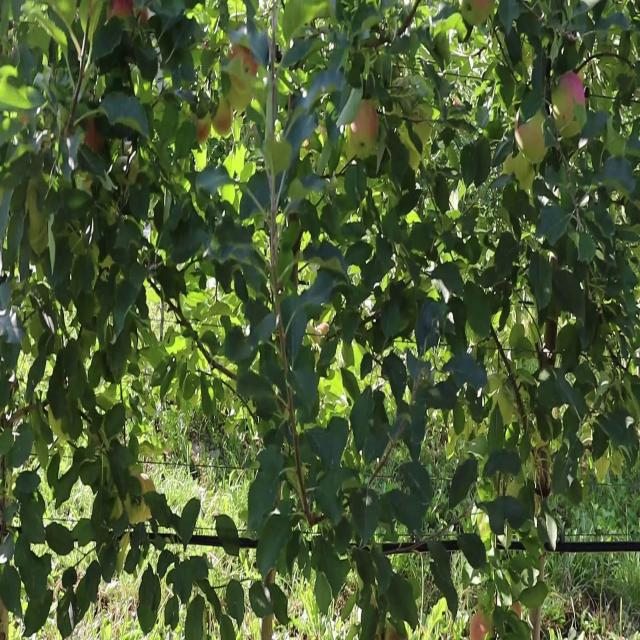apple: (552, 71, 588, 140), (516, 106, 549, 165), (348, 99, 380, 156), (228, 42, 260, 80), (512, 156, 538, 192), (272, 135, 293, 176), (212, 99, 233, 137), (84, 120, 106, 155), (468, 0, 495, 27), (108, 0, 134, 21), (196, 113, 212, 144), (472, 611, 489, 639), (288, 177, 306, 203), (112, 490, 125, 521), (136, 7, 151, 28), (140, 476, 155, 494), (128, 163, 140, 185), (316, 127, 328, 148), (504, 156, 515, 178), (512, 604, 522, 619)
